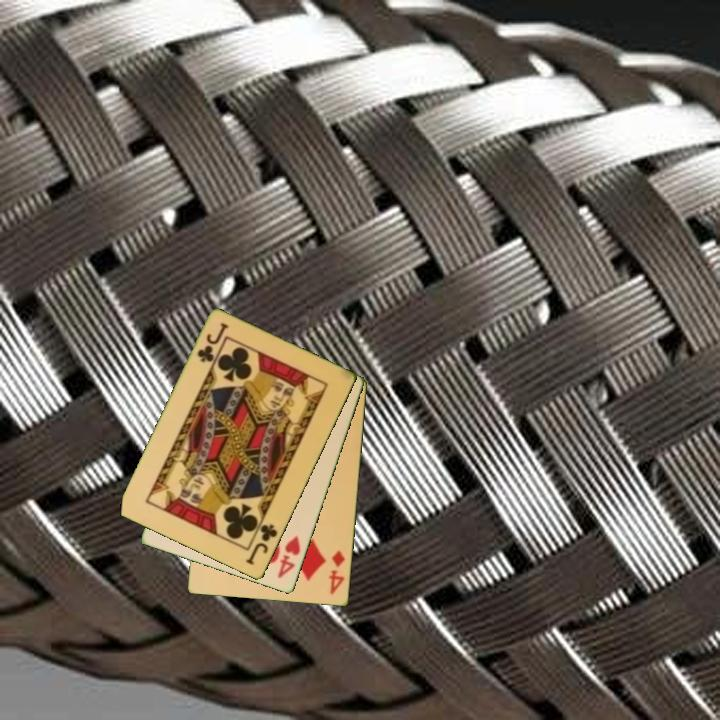4d: (325, 547, 348, 597)
4h: (274, 532, 304, 582)
Jc: (242, 521, 281, 568), (194, 319, 231, 366)
